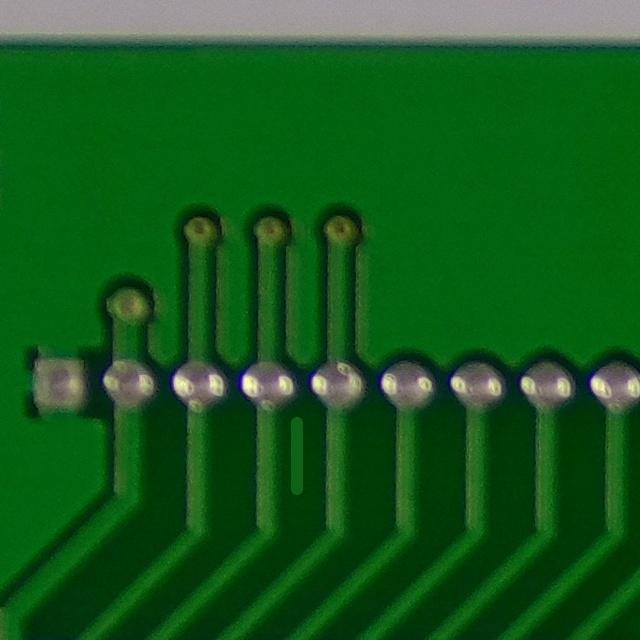spurious_copper: (268, 413, 326, 502)
